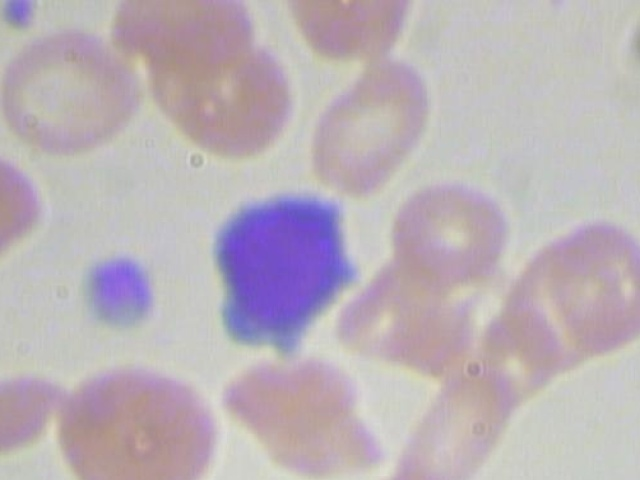Platelets: (65, 247, 162, 346), (0, 0, 45, 41)
RBC: (0, 24, 150, 171), (53, 358, 225, 480), (298, 51, 437, 196), (385, 180, 510, 295), (0, 152, 45, 277), (0, 363, 58, 459)
WBC: (208, 174, 355, 360)
